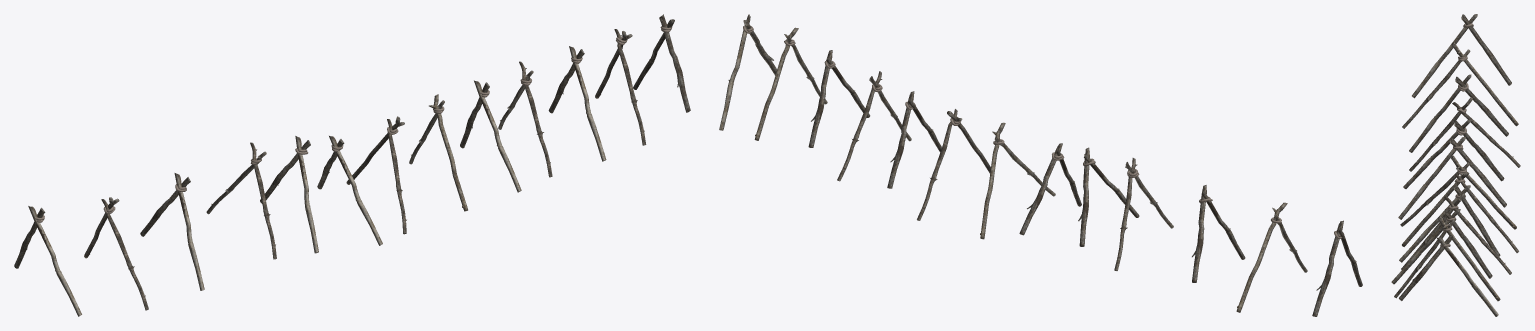
File: SM_SmallCabin_RoofOrnament2.fbx
3 renders of one model, left to right at view 1: azimuth 30°, elevation 25°; view 2: azimuth 150°, elevation 25°; view 3: azimuth 270°, elevation 25°, orthographic. The views are drawn at different scales.
Visible parts, largest first — view 1: SM_SmallCabin_RoofOrnament2; view 2: SM_SmallCabin_RoofOrnament2; view 3: SM_SmallCabin_RoofOrnament2.
Part boxes in pixels (box(x1,y1,x2,y2)): SM_SmallCabin_RoofOrnament2: box(14, 14, 690, 316); SM_SmallCabin_RoofOrnament2: box(719, 14, 1362, 316); SM_SmallCabin_RoofOrnament2: box(1391, 14, 1520, 316).
Size of the model in its own units: 832 by 170 by 183.
